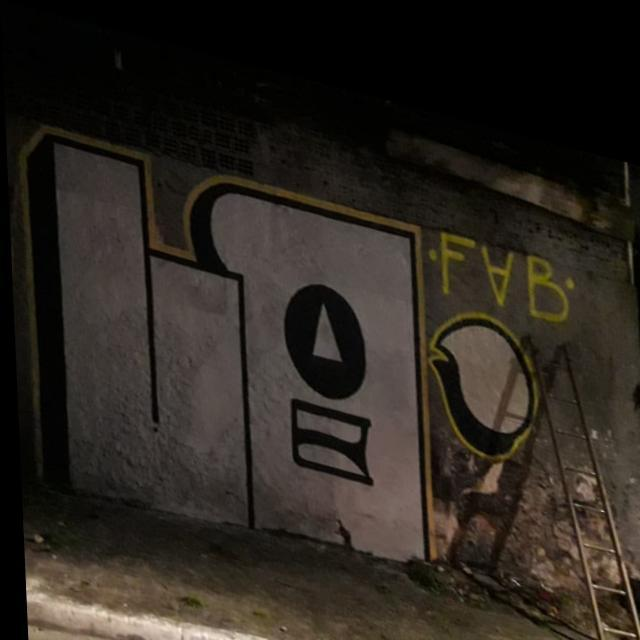nonspitting: (17, 124, 439, 564), (430, 310, 540, 460), (429, 232, 576, 324)
